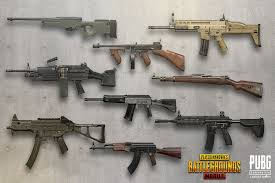Gun: (6, 8, 256, 153)
